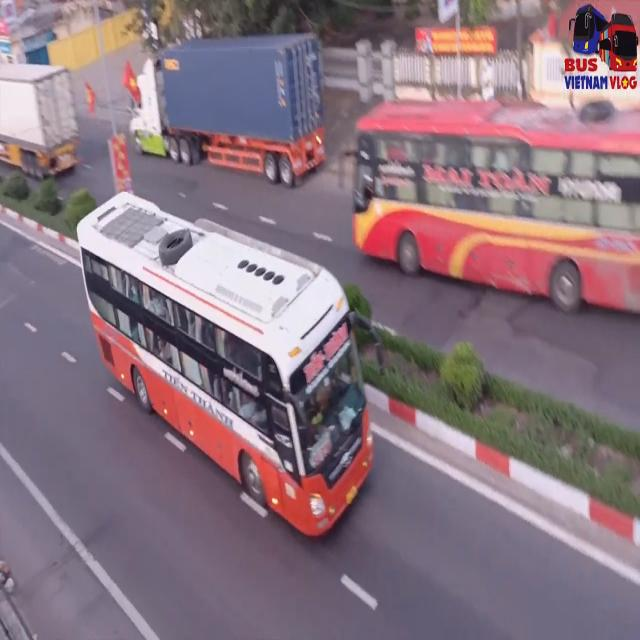bus: (75, 192, 370, 538), (345, 95, 640, 319)
truck: (127, 37, 323, 188), (0, 58, 79, 180)
